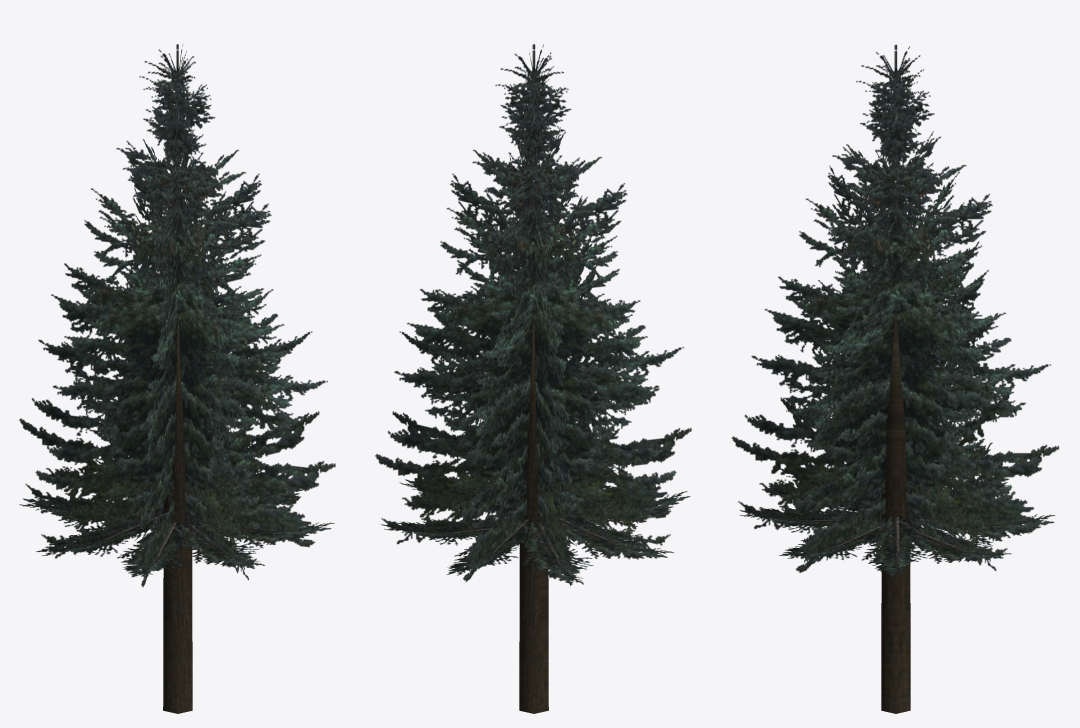
The model's file is glf_tree2__glf_tree2_sh.glb.
3 renders of one model, left to right at view 1: azimuth 30°, elevation 25°; view 2: azimuth 150°, elevation 25°; view 3: azimuth 270°, elevation 25°, orthographic.
Parts seen in each view (by area): view 1: polygon0; view 2: polygon0; view 3: polygon0.
Part boxes in pixels (bbox=[...]): polygon0: bbox=[19, 44, 335, 713]; polygon0: bbox=[375, 44, 691, 713]; polygon0: bbox=[731, 44, 1058, 713].
Bounding box in the file's own units: 110 × 242 × 110.
1 material, 1 textured.
